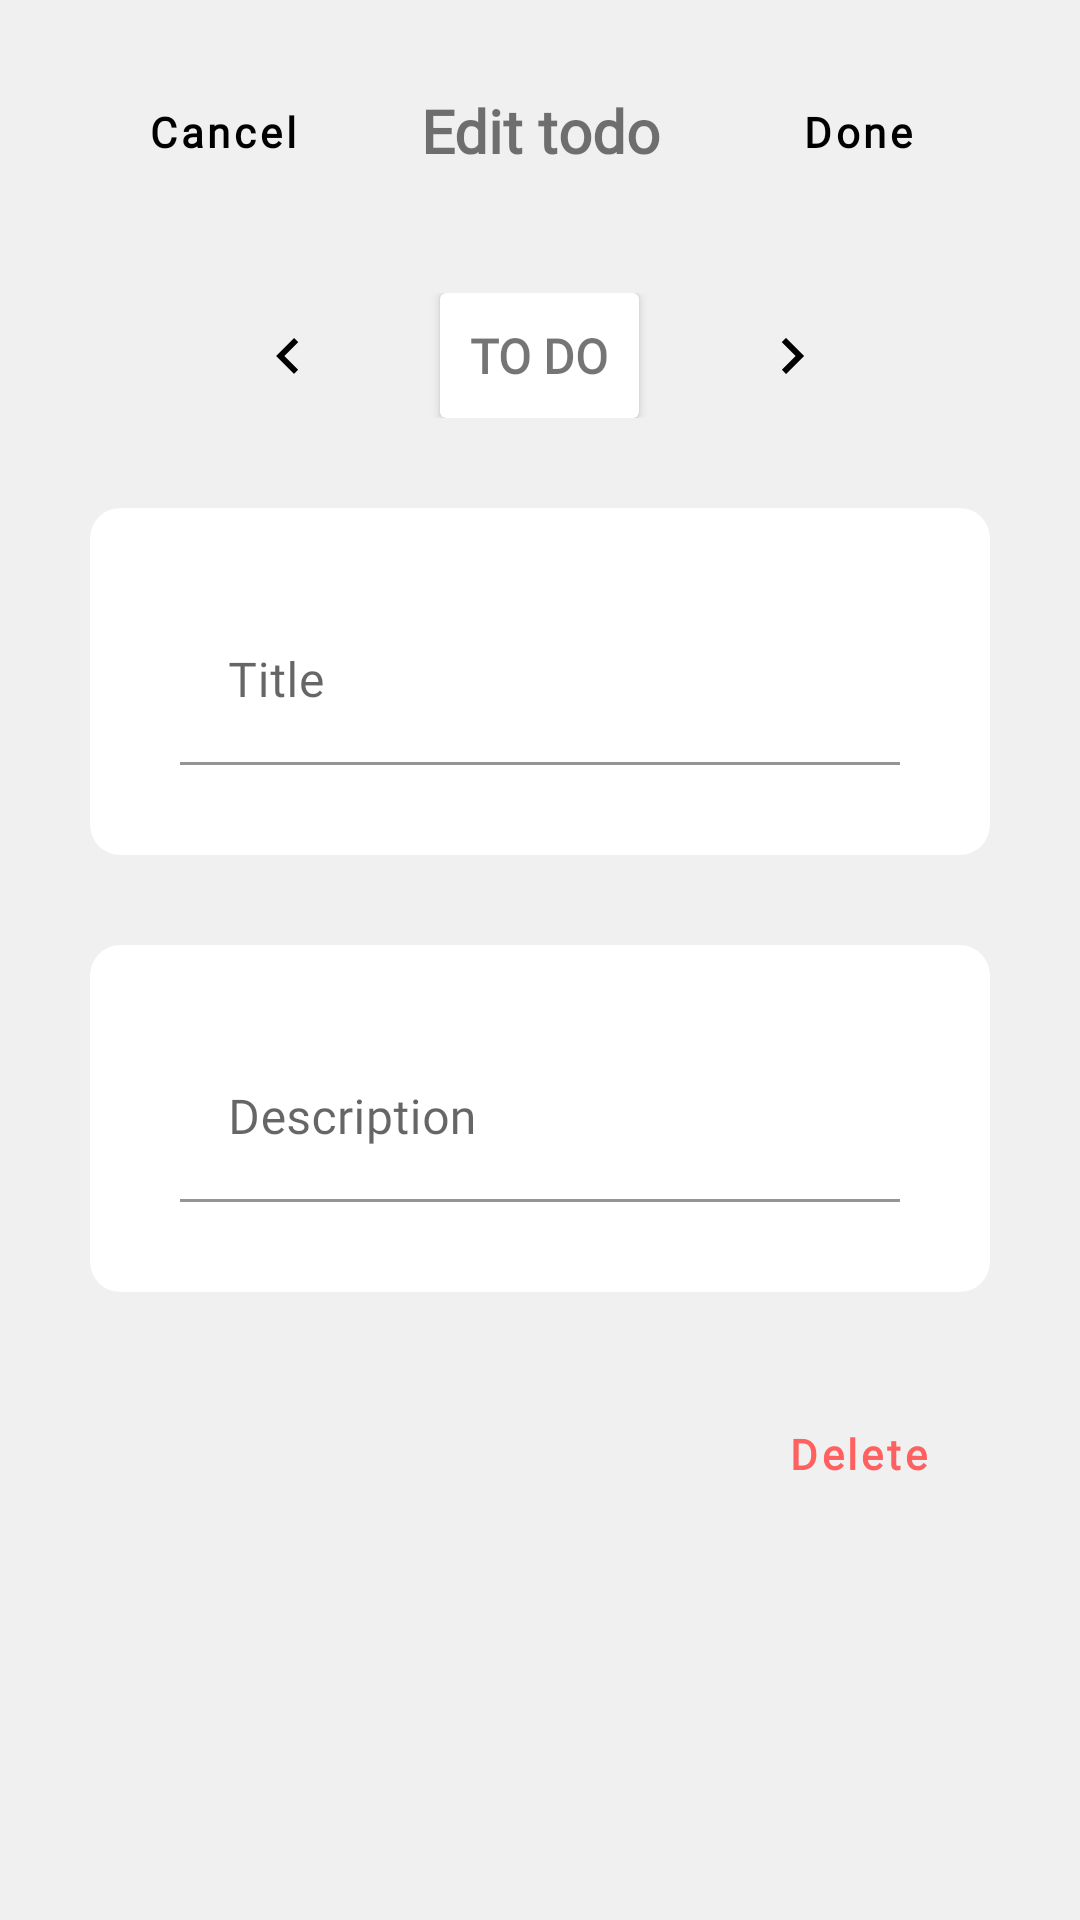

Named icons in this screenshot (1080px×1920px) and their centers, (x,y):
chevron left: (287,356)
chevron right: (793,356)
